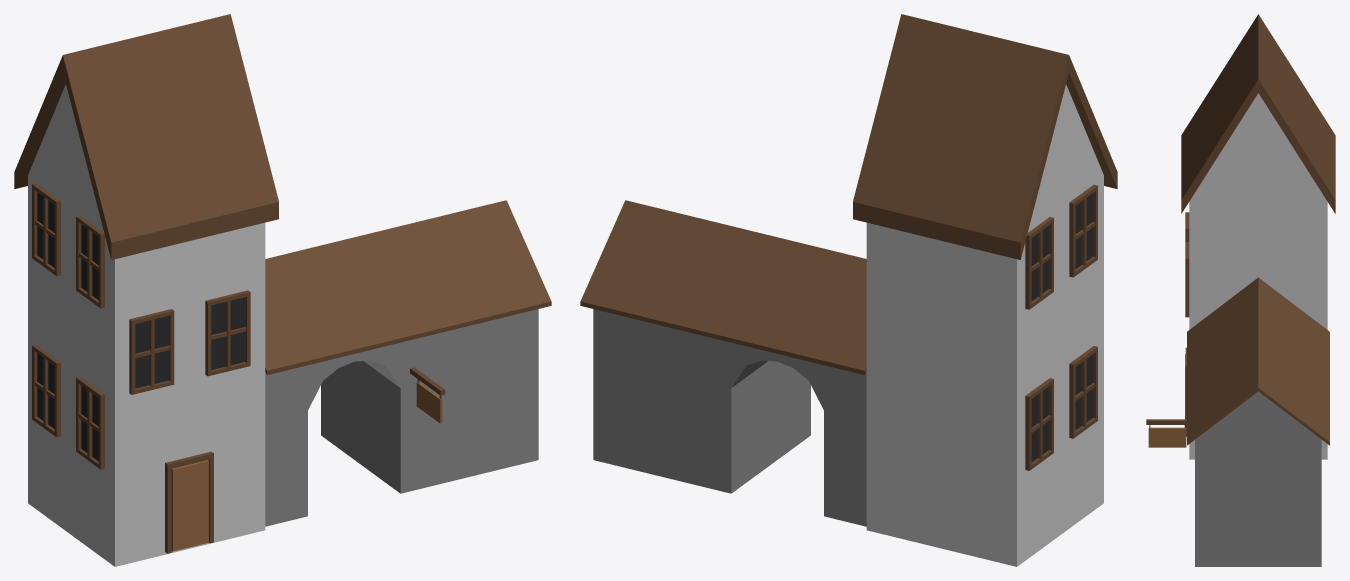
Rendered from GunShop_base_mat.fbx.
3 renders of one model, left to right at view 1: azimuth 30°, elevation 25°; view 2: azimuth 150°, elevation 25°; view 3: azimuth 270°, elevation 25°, orthographic. The views are drawn at different scales.
Parts seen in each view (by area): view 1: GunShop_base_mat; view 2: GunShop_base_mat; view 3: GunShop_base_mat.
Part boxes in pixels (x1,y1,x2,y2): GunShop_base_mat: (14,14,551,566); GunShop_base_mat: (580,14,1117,566); GunShop_base_mat: (1146,14,1335,566).
Bounding box in the file's own units: 541 × 562 × 251.
